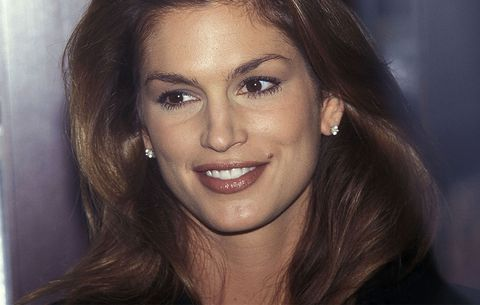mole: (264, 150, 277, 161)
